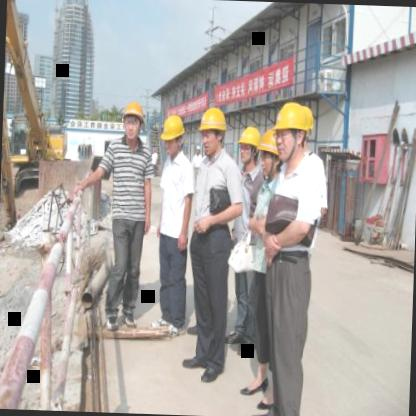helmet: (273, 100, 315, 164), (198, 106, 230, 156), (119, 98, 148, 145), (256, 128, 282, 180), (158, 112, 186, 160), (238, 125, 261, 172)
